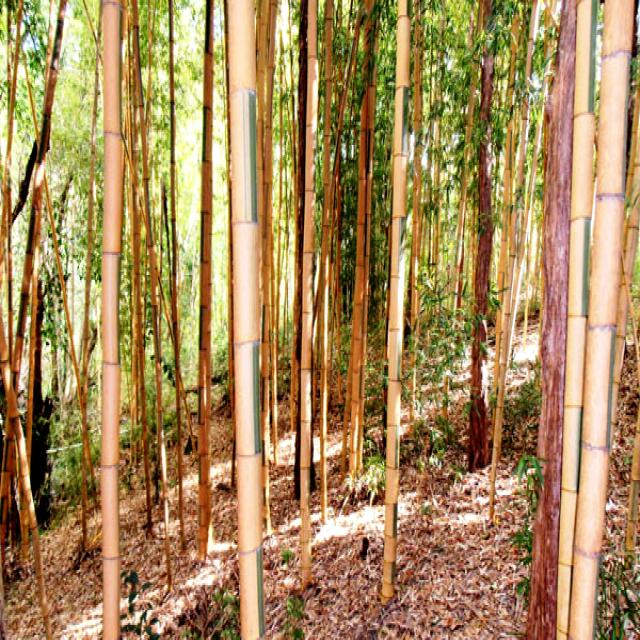Running: (6, 1, 640, 640)
